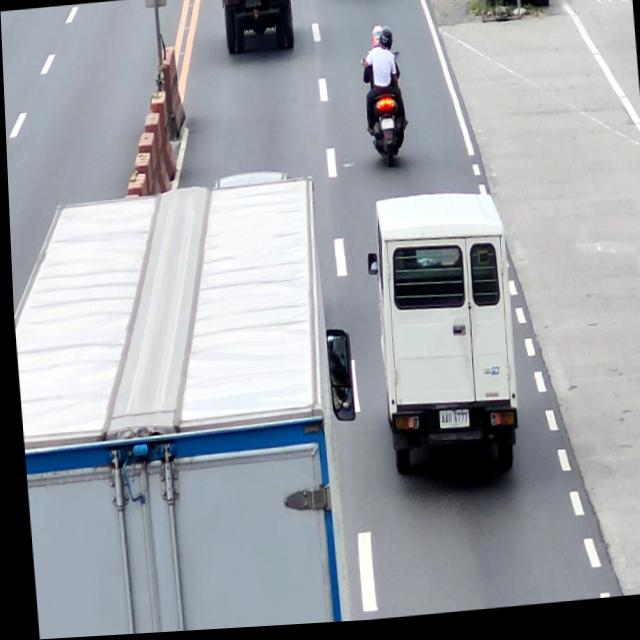Car: (357, 190, 520, 488)
License-Plate: (436, 414, 465, 434), (378, 121, 393, 134)
Motorcycle: (358, 54, 407, 173)
Truck: (6, 169, 368, 640)
